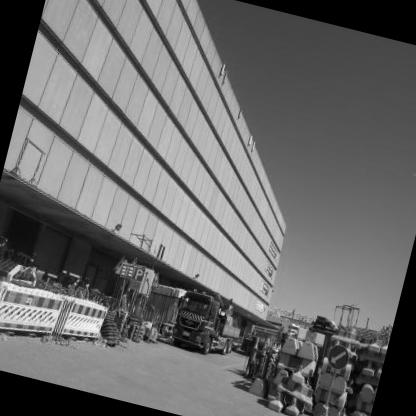truck: (168, 278, 249, 367)
